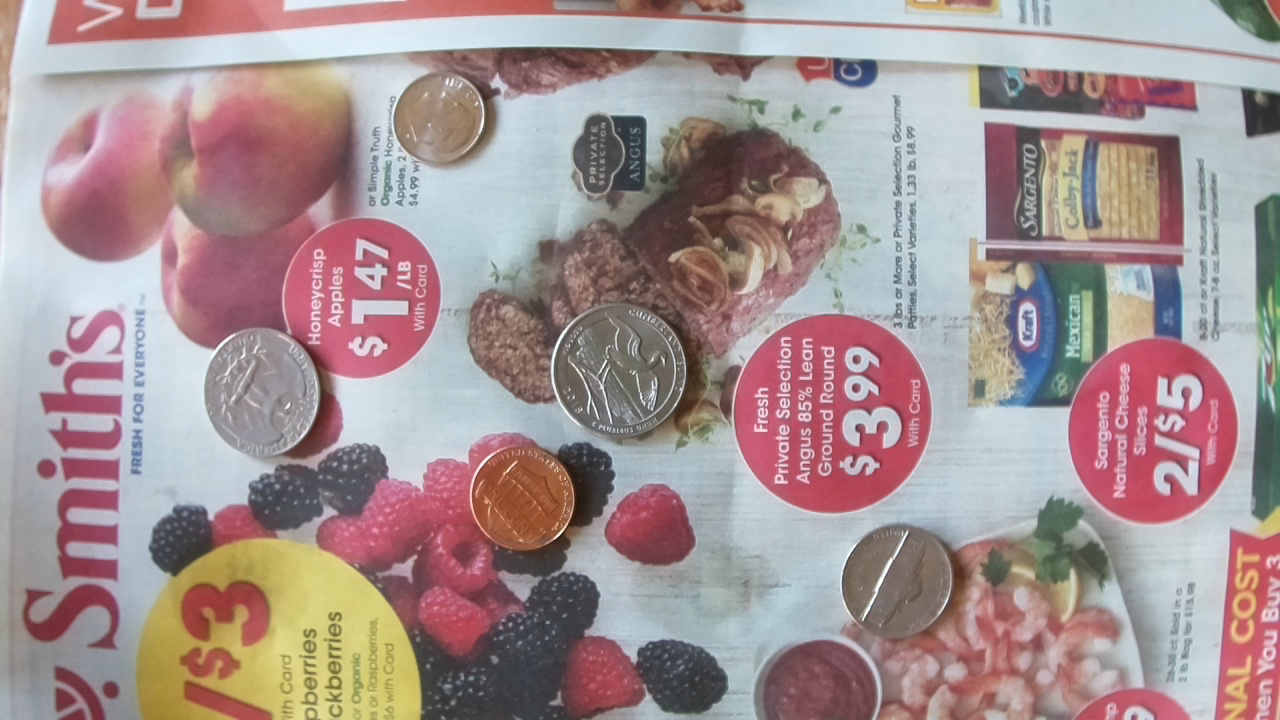dime: (388, 71, 487, 167)
nickel: (840, 522, 954, 643)
penny: (469, 444, 573, 552)
quarter: (552, 298, 688, 437), (203, 326, 321, 457)
